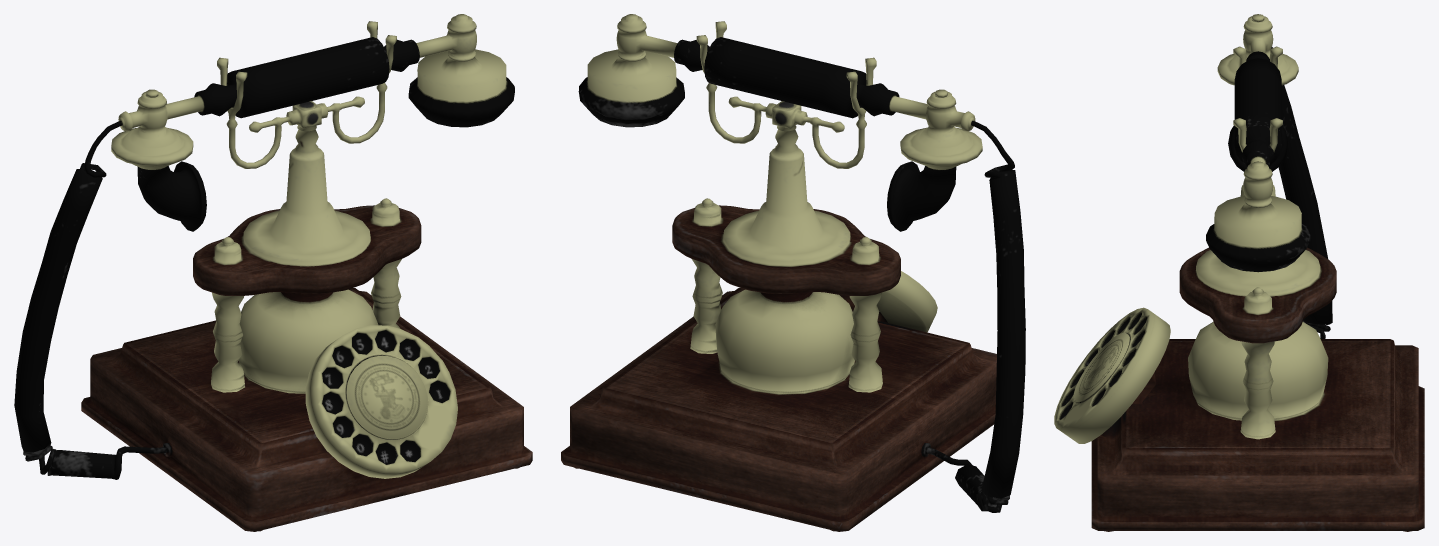
File: antique_phone.glb
3 renders of one model, left to right at view 1: azimuth 30°, elevation 25°; view 2: azimuth 150°, elevation 25°; view 3: azimuth 270°, elevation 25°, orthographic. The views are drawn at different scales.
Parts seen in each view (by area): view 1: Object_2; view 2: Object_2; view 3: Object_2.
Part boxes in pixels (x1,y1,x2,y2): Object_2: (14, 14, 532, 531); Object_2: (561, 14, 1025, 531); Object_2: (1054, 14, 1424, 531).
Size of the model in its own units: 2.94 by 2.38 by 2.09.
1 material, 1 textured.
